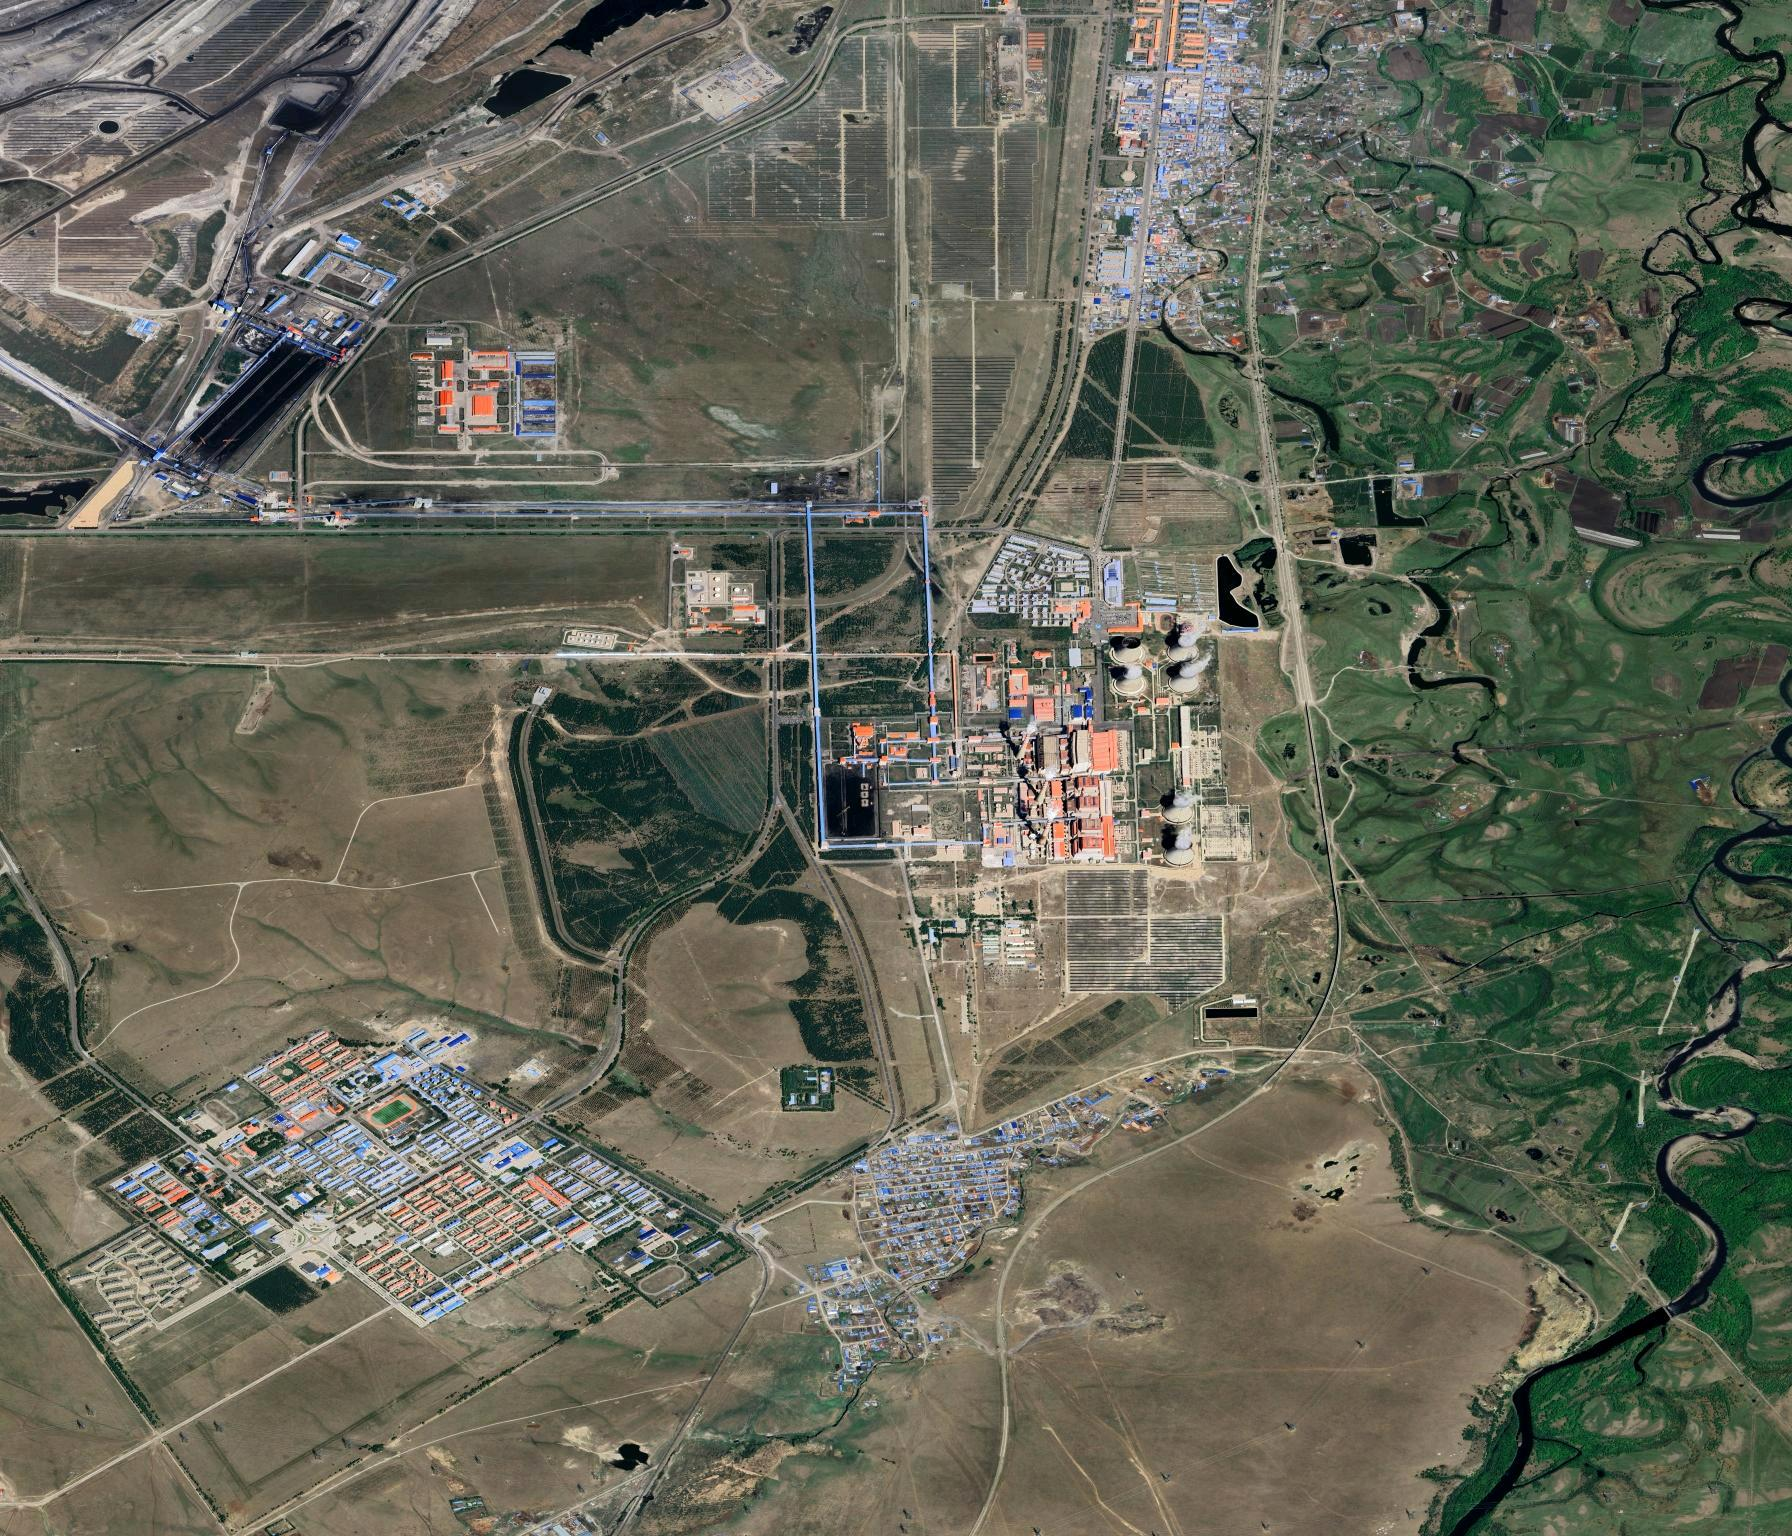coal_fired_power_plant: (958, 632, 1251, 869)
